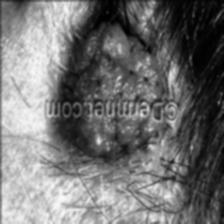Potentially Malignant Skin Tumors: (69, 10, 164, 100)
